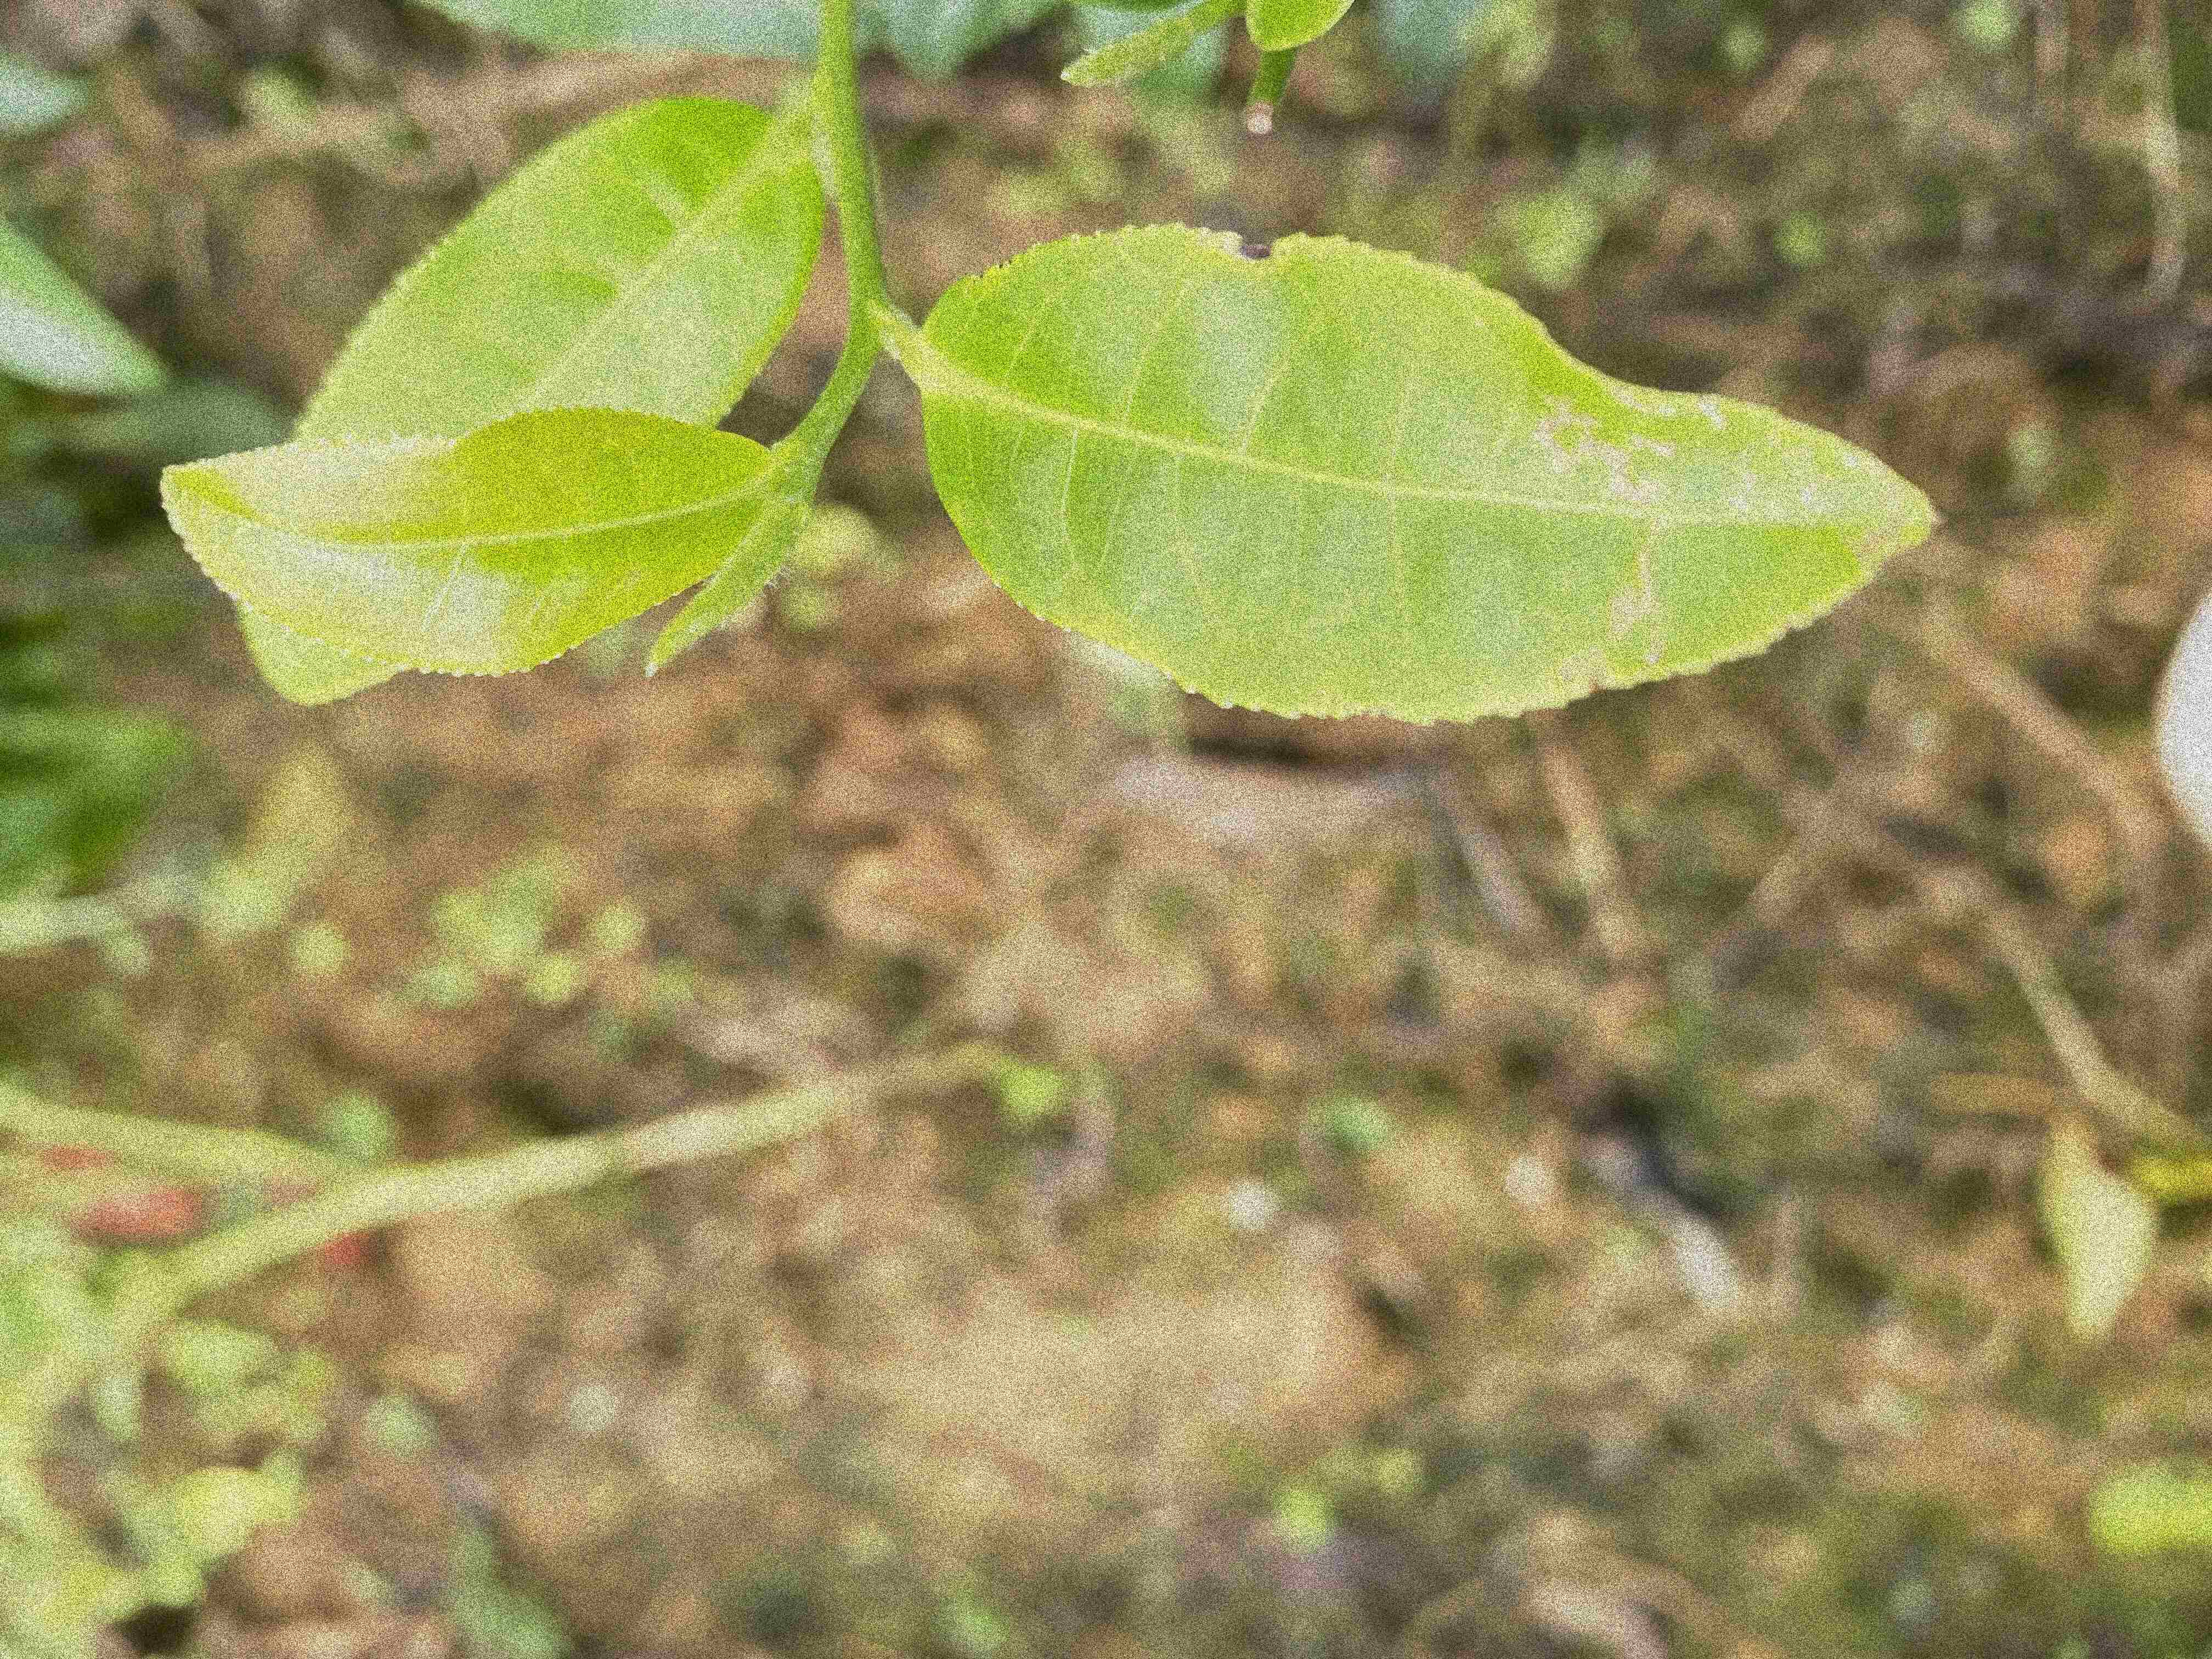healthy: (232, 94, 822, 706), (155, 410, 775, 680)
tanju_low: (920, 225, 1937, 727)
